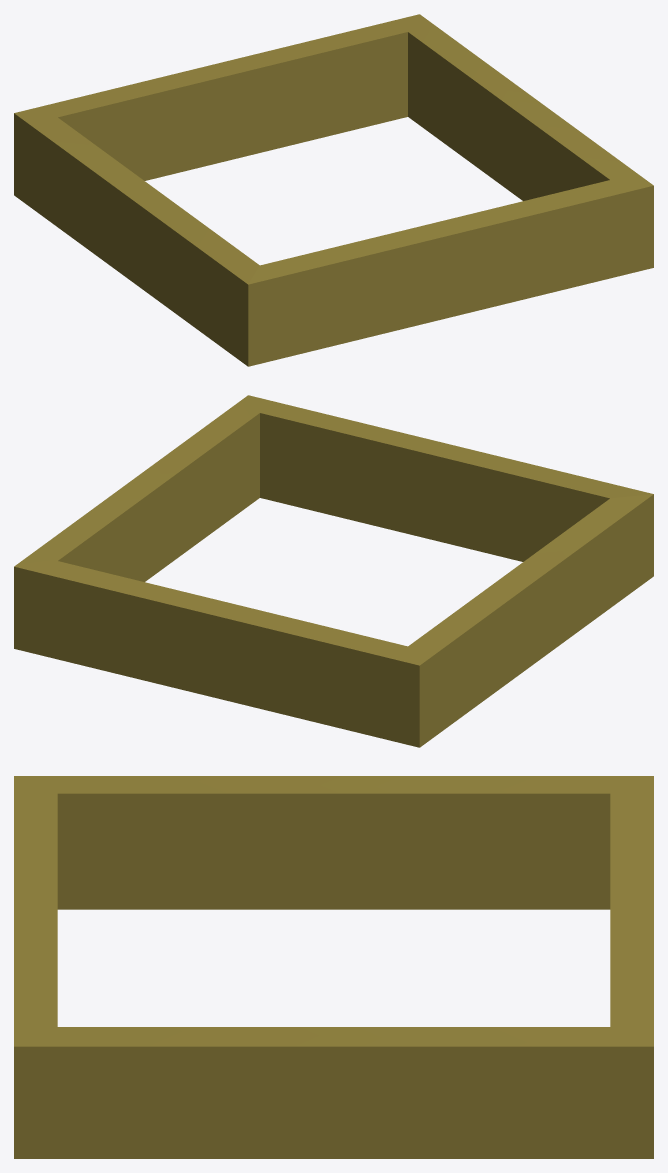
Rendered from squarePressedFrameCompressed.glb.
3 views of the same model, one above another, from view 1: azimuth 30°, elevation 25°; view 2: azimuth 150°, elevation 25°; view 3: azimuth 270°, elevation 25° (orthographic). The views are drawn at different scales.
Parts seen in each view (by area): view 1: Cube.003; view 2: Cube.003; view 3: Cube.003.
Part boxes in pixels (bbox=[...]): Cube.003: bbox=[14, 14, 653, 366]; Cube.003: bbox=[14, 395, 653, 747]; Cube.003: bbox=[14, 776, 653, 1158].
Bounding box in the file's own units: 1 × 0.2 × 1.
